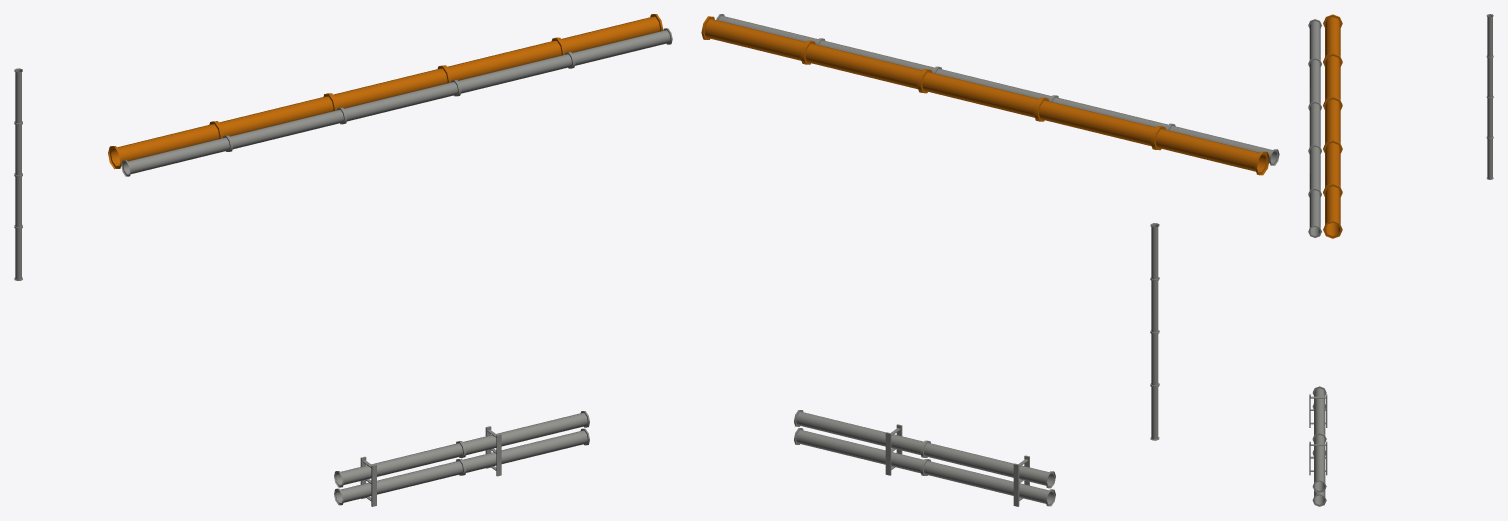
Rendered from SM_H_Building_Tide_Corridor_01B_ATLAS.fbx.
The picture shows the model from 3 angles, left to right: view 1: azimuth 30°, elevation 25°; view 2: azimuth 150°, elevation 25°; view 3: azimuth 270°, elevation 25°; orthographic projection. The views are drawn at different scales.
Parts seen in each view (by area): view 1: SM_H_Building_Tide_Corridor_01B_ATLAS; view 2: SM_H_Building_Tide_Corridor_01B_ATLAS; view 3: SM_H_Building_Tide_Corridor_01B_ATLAS.
Boxes of the visible parts, <box> form: SM_H_Building_Tide_Corridor_01B_ATLAS: <box>14,14,672,506</box>; SM_H_Building_Tide_Corridor_01B_ATLAS: <box>701,14,1279,506</box>; SM_H_Building_Tide_Corridor_01B_ATLAS: <box>1308,14,1493,506</box>.
Size of the model in its own units: 1354 by 513 by 977.
